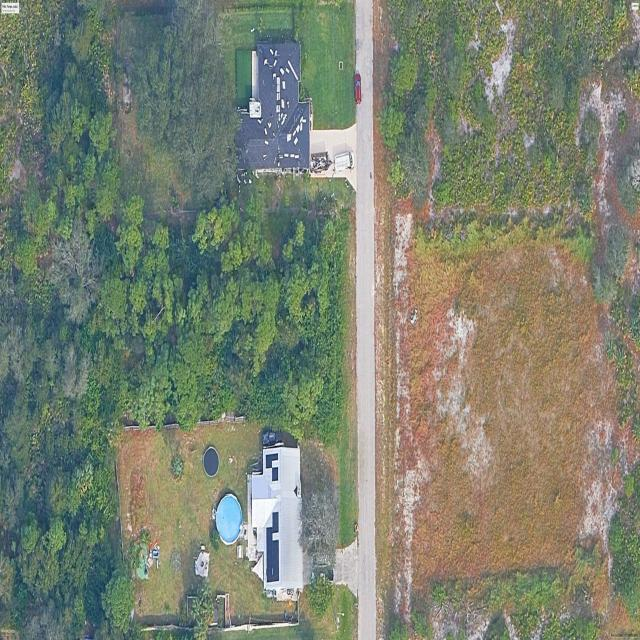Home: (237, 42, 311, 172), (249, 444, 303, 595)
